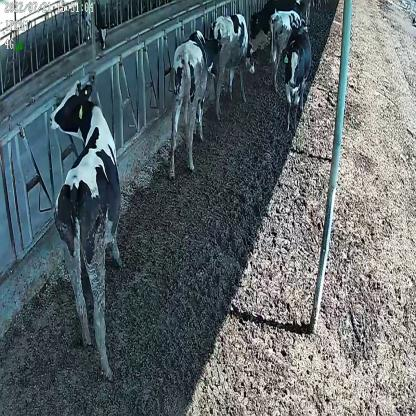cow: (47, 76, 122, 381), (168, 26, 223, 182), (209, 11, 255, 116), (268, 11, 306, 94), (284, 30, 311, 132)
